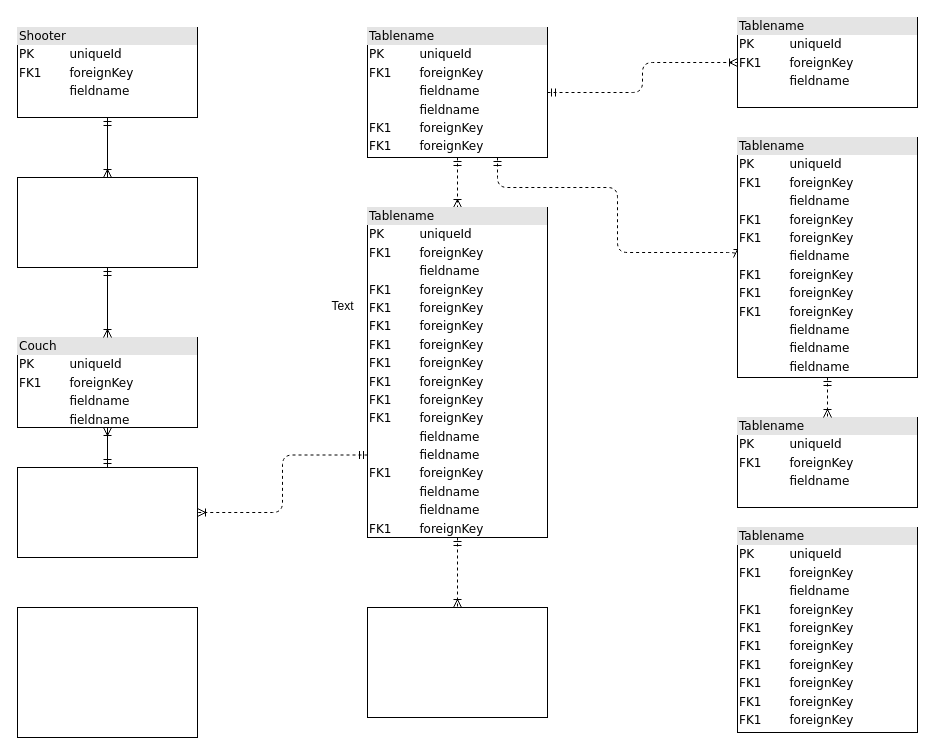
Image size: 935x755. Some labels were removed from this diagram. The centre of each missing label's shape, as x and y in pixels:
"Equipment PK uniqueId FK1 foreignKey fieldname" goes at point 107,222.
"Tablename PK uniqueId FK1 foreignKey fieldname fieldname" goes at point 107,512.
"Tablename PK uniqueId FK1 foreignKey fieldname fieldname fieldname fieldname" goes at point 107,672.
"Tablename PK uniqueId FK1 foreignKey fieldname fieldname FK1 foreignKey" goes at point 457,662.
